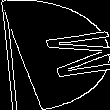M_W: (7, 27, 103, 83)
